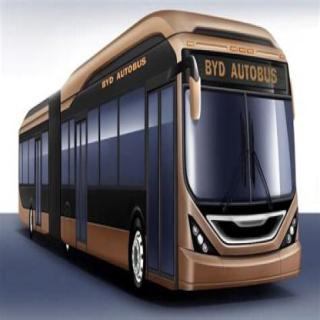Normal_vehicle: (18, 3, 310, 300)
